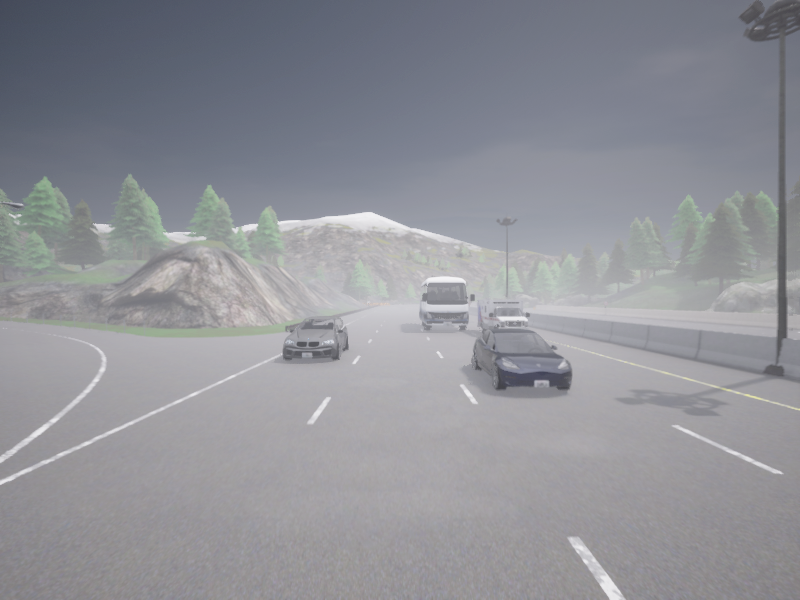vehicle: (472, 328, 571, 389), (419, 277, 474, 330), (283, 316, 348, 360), (477, 300, 529, 332), (485, 297, 491, 299), (468, 297, 469, 305), (470, 301, 471, 303)
